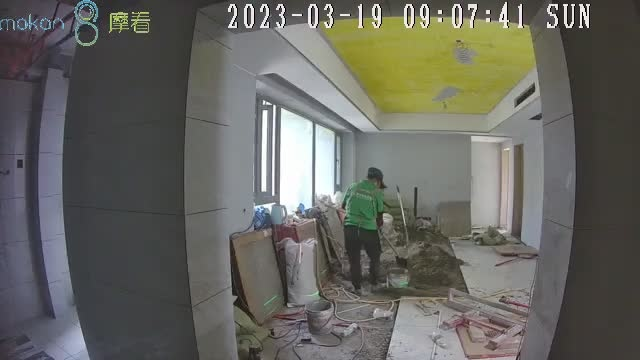people: (341, 167, 392, 293)
window: (255, 96, 348, 218)
